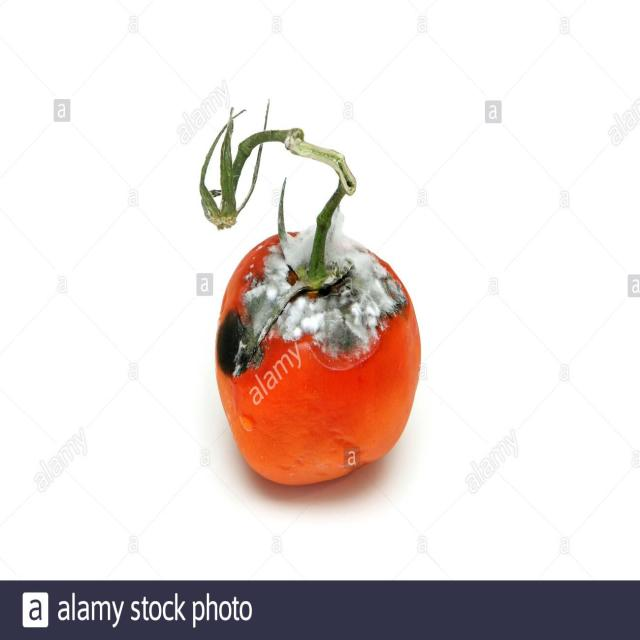overripe tomato: (162, 52, 462, 533)
